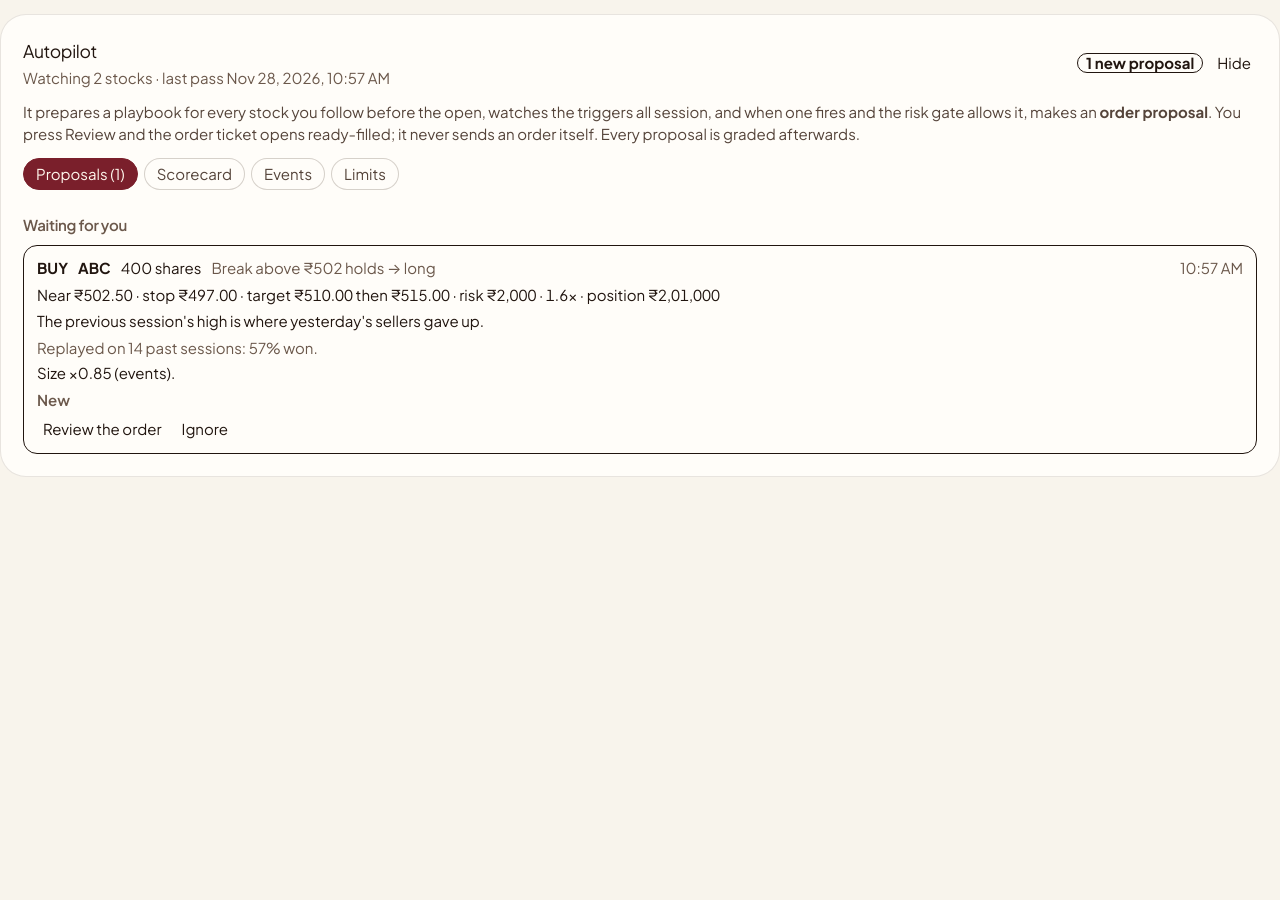
the autopilot panel: status, the waiting proposal, the scorecard with the research's own grade, events and limits
This screenshot has width=1280, height=900.
Check: the text "Watching 2 stocks · last pass Nov 28, 2026, 10:57 AM" is shown, box [23,67,390,89]
Check: the text "1 new proposal" is shown, box [1077,53,1203,73]
Click the button "Scorecard".
click(194, 174)  # box [144,158,245,190]
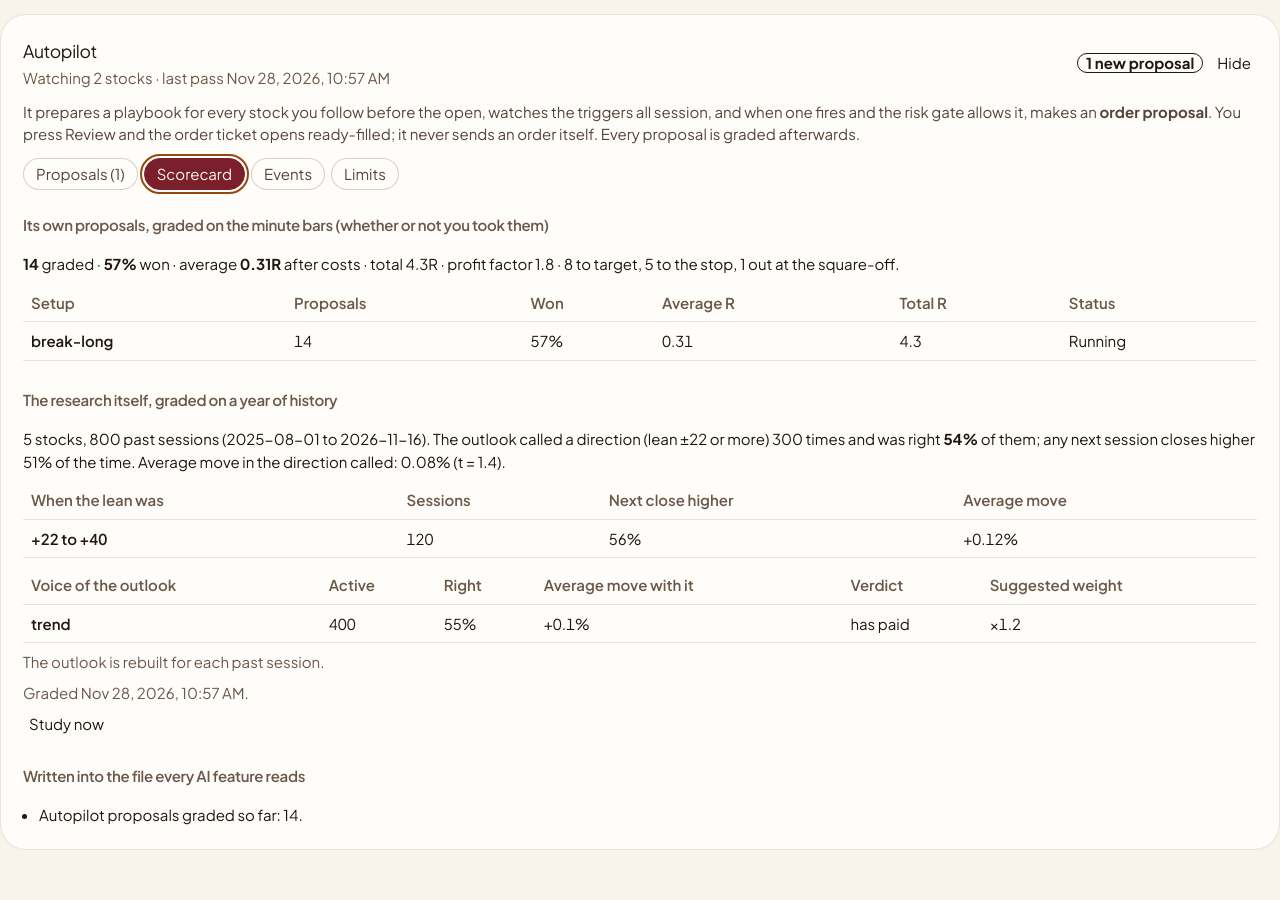
Click the button "Events".
click(288, 174)  # box [251,158,325,190]
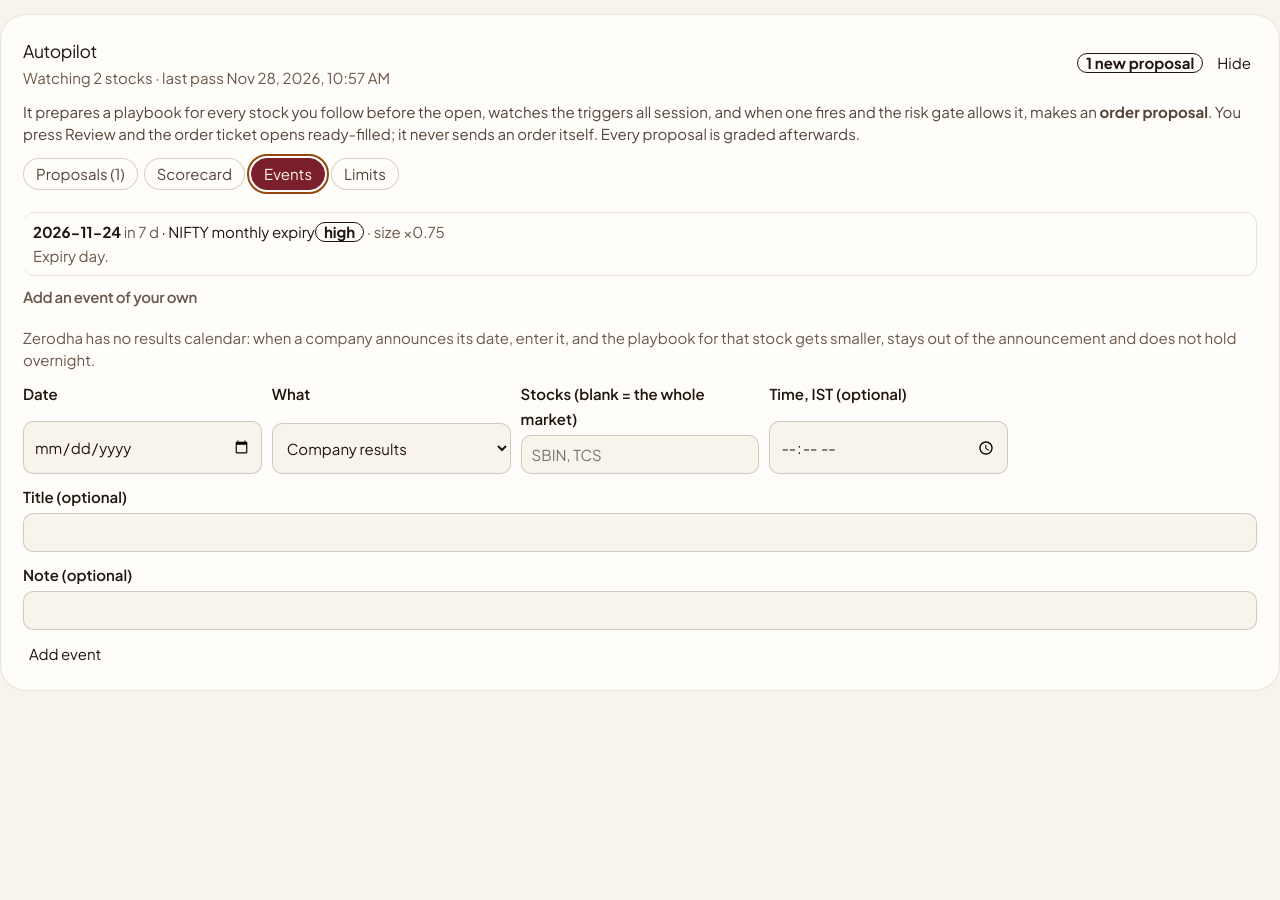
Check: the list with class "apx-evs" reads "2026-11-24 in 7 d · NIFTY monthly expiry high · size ×0.75 Expiry day.", box [23,212,1257,276]
Check: the button "Add event" is shown, box [23,640,107,668]
Click the button "Limits".
click(365, 174)  # box [331,158,399,190]
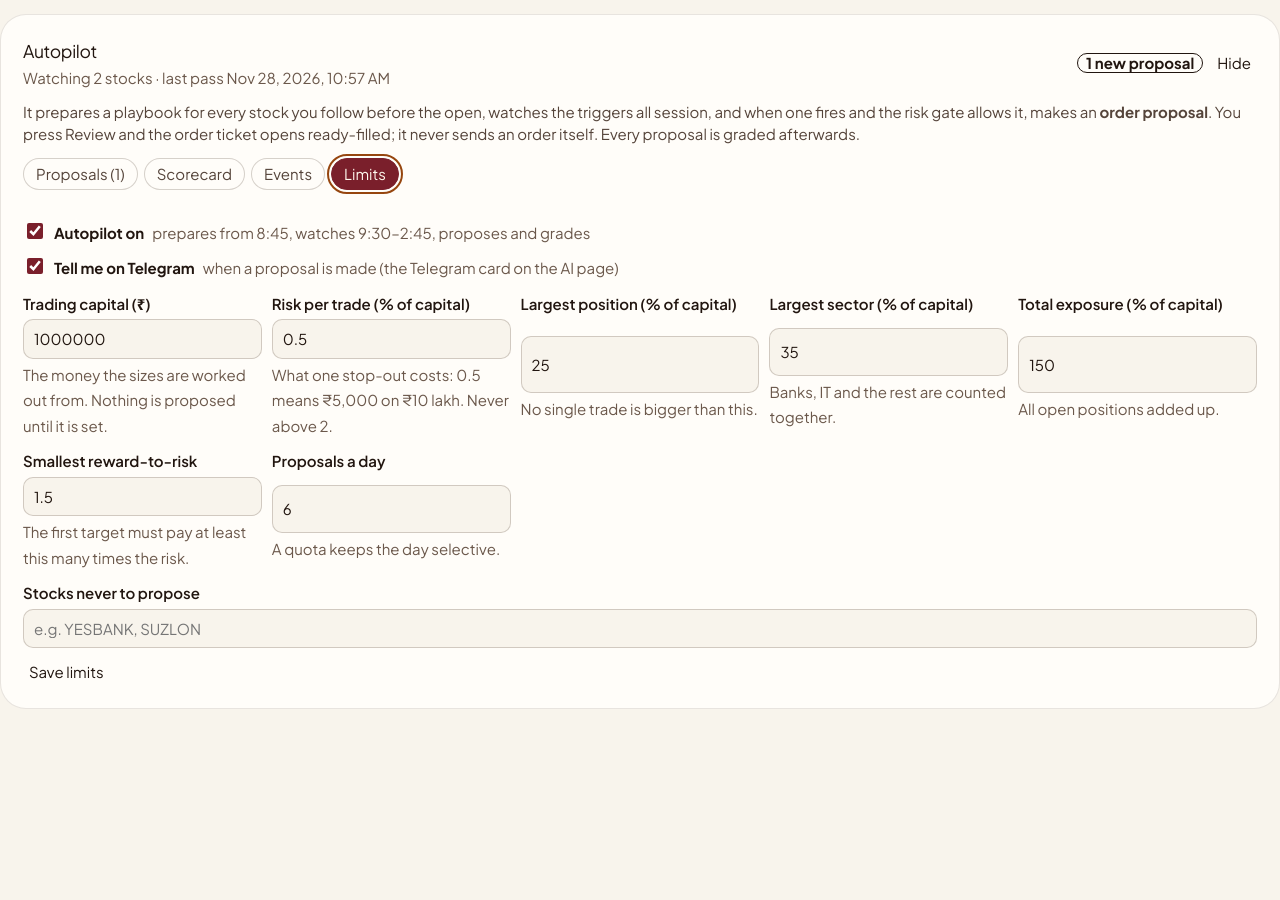
Check: the number field labelled "Trading capital (₹)" holds "1000000", box [23,319,262,359]
